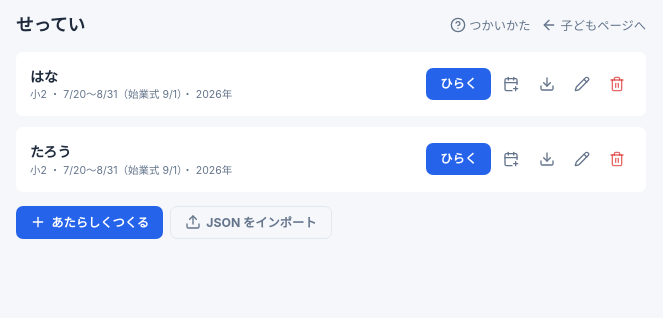
Scenario: 管理画面トップのエクスポート › 続けて書き出せば、どちらも落ちて、押し直せる
The image size is (663, 318).
Click the button named "エクスポート（JSON）" in the row of "はな" at (546, 84), box x1=532 y1=69 x2=562 y2=99
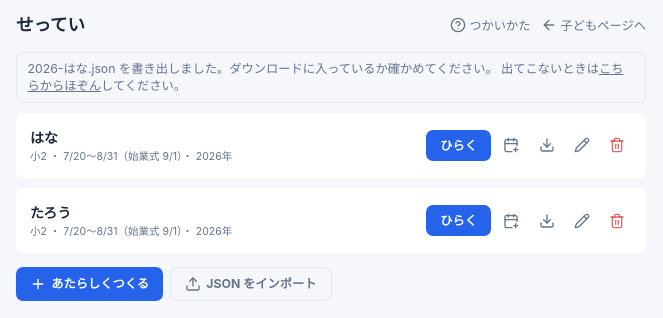
Expected: the text "2026-はな.json を書き出しました。" is shown, x1=28 y1=60 x2=599 y2=76
Click the button named "エクスポート（JSON）" in the row of "たろう" at (546, 221), box x1=532 y1=206 x2=562 y2=236
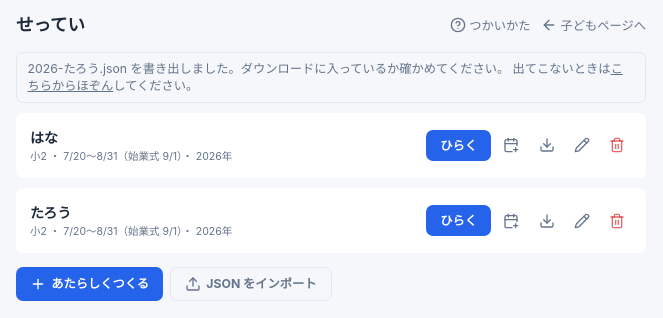
Expected: the text "2026-たろう.json を書き出しました。" is shown, x1=28 y1=60 x2=611 y2=76
Expected: the text "2026-はな.json を書き出しました。" is gone
